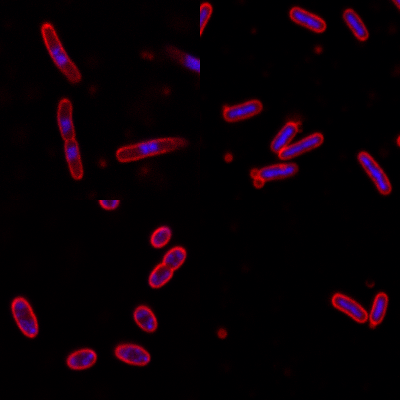MP265: (146, 246, 188, 290), (10, 295, 40, 338), (113, 343, 151, 367), (132, 304, 158, 334), (65, 348, 97, 370)
Nalidixate: (56, 98, 85, 180)
Oblique: (40, 22, 82, 84), (114, 135, 187, 166), (149, 225, 172, 250)
Rifampicin: (356, 150, 392, 197), (277, 132, 326, 161), (249, 161, 300, 188), (330, 292, 368, 323), (288, 4, 328, 33), (266, 119, 298, 152), (222, 99, 263, 123), (340, 9, 370, 41), (367, 291, 390, 326)
Vesicle: (216, 327, 228, 340), (313, 44, 325, 56), (223, 152, 234, 163)
